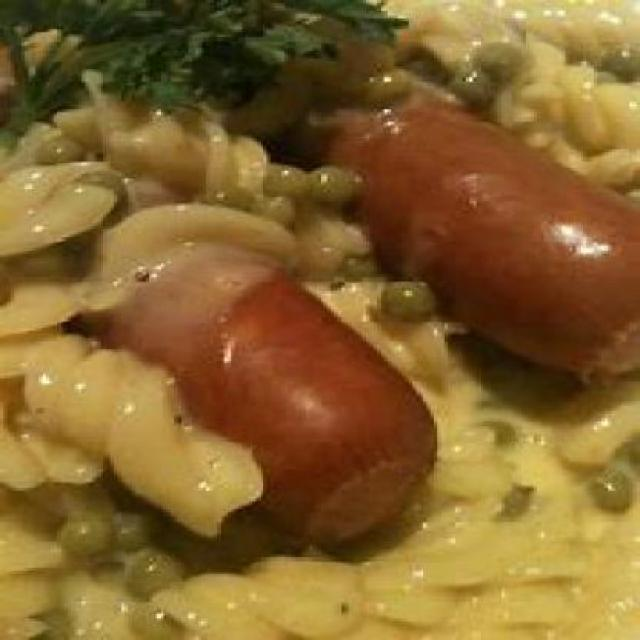hot dog: (107, 250, 448, 536), (327, 90, 636, 376)
